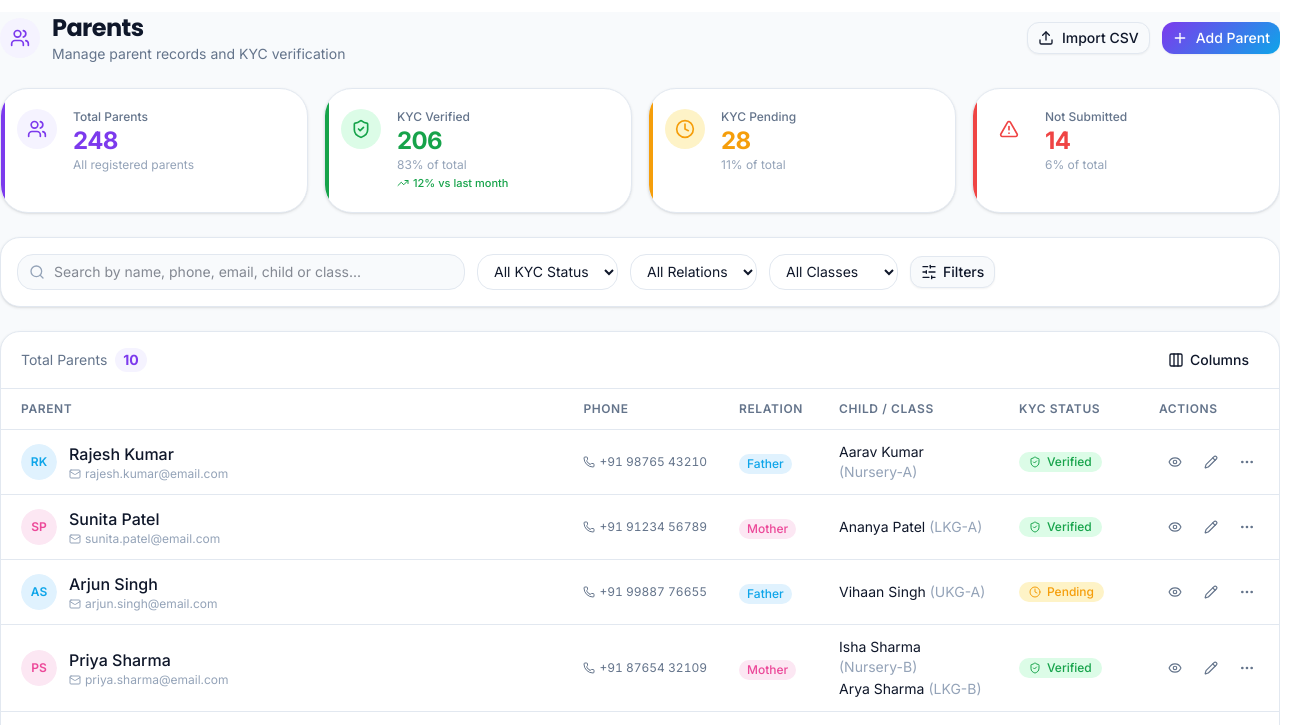
Scenario: ParentsListPage › Filter Bar › filters by Relation dropdown
Select "Mother" in the 2nd dropdown showing "All Relations" at coordinates (694, 272), box [630,254,757,290]
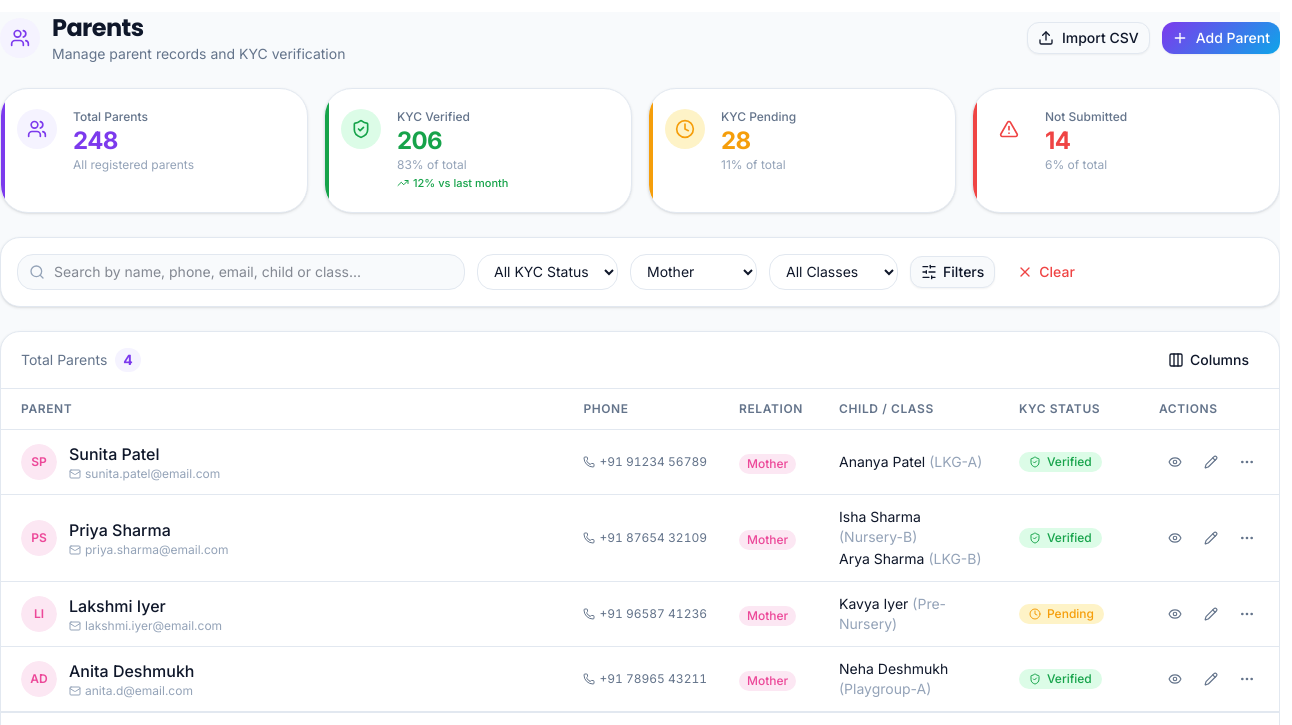
Expected: the text "Sunita Patel" is shown, [69,444,160,464]
Result: the text "Rajesh Kumar" is gone
